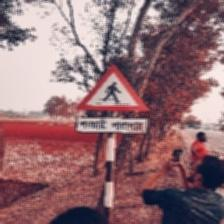Pedestrian-crossing: (75, 65, 150, 138)
